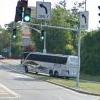Bus: (19, 47, 80, 79)
